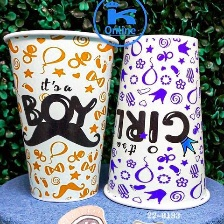paper_cup: (0, 24, 122, 205), (98, 29, 214, 214)
